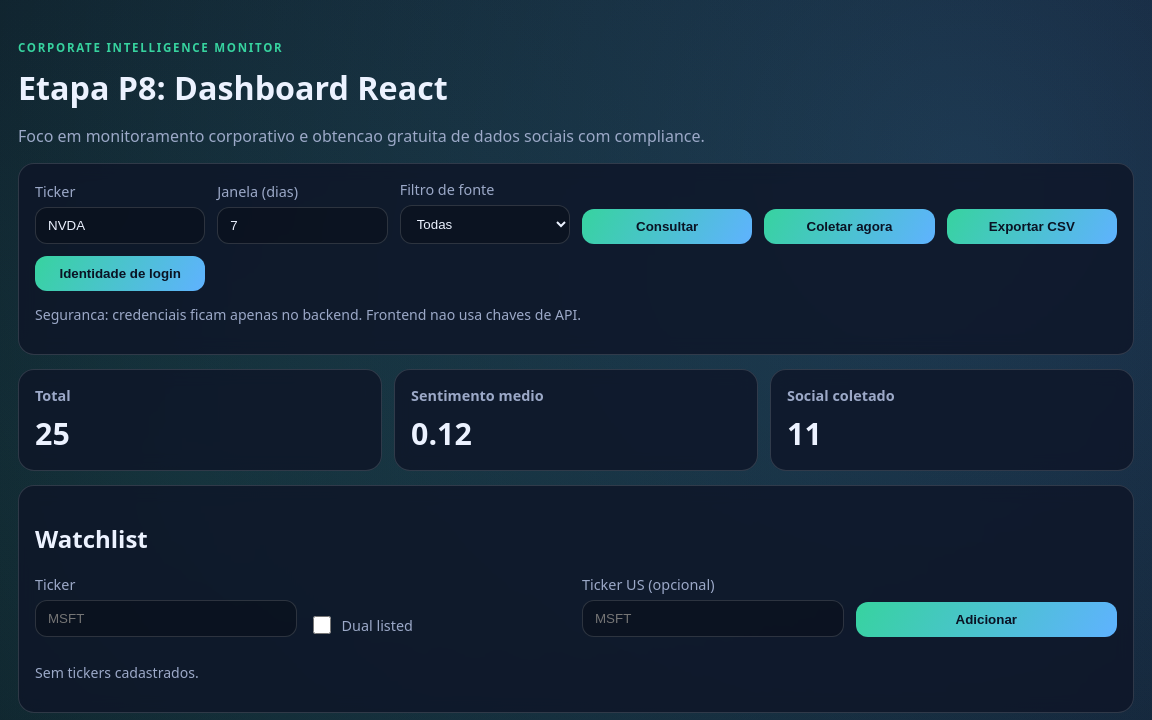
it: App › exibe erro ao falhar consulta de status da coleta
Click the button "Coletar agora".
click(849, 226)  # box [764,209,935,244]
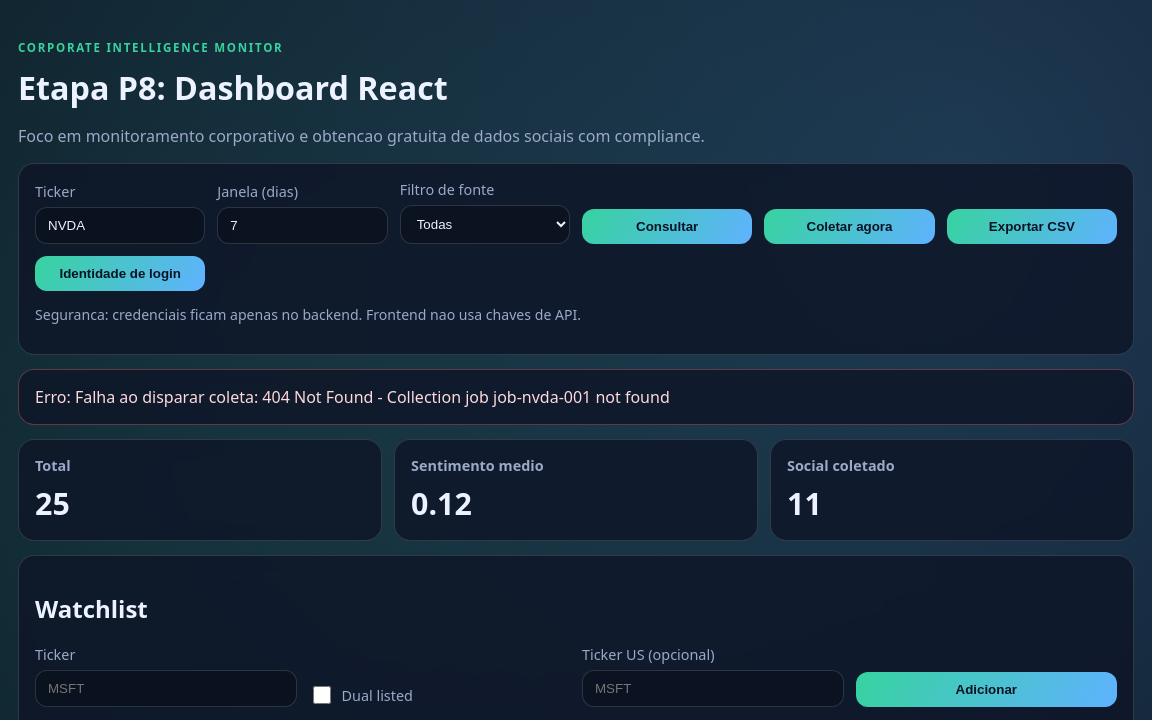
Result: the text "Erro: Falha ao disparar coleta: 404 Not Found - Collection job job-nvda-001 not found" is shown at [18,369,1134,425]
